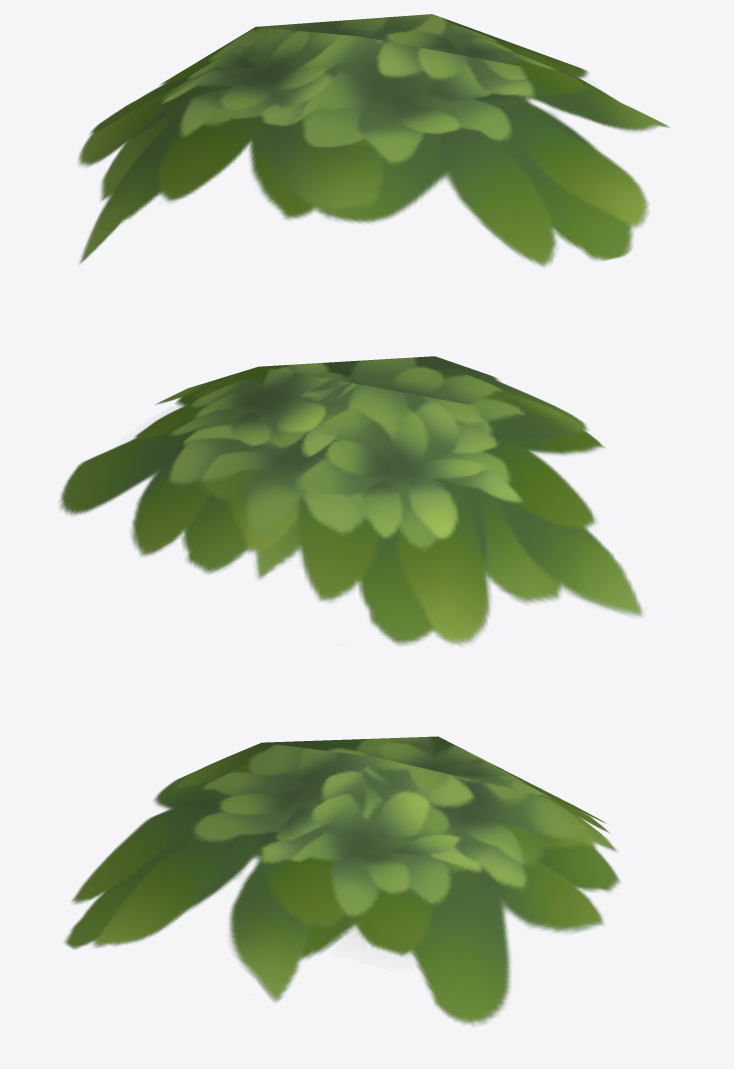
File: leafage4.glb
The picture shows the model from 3 angles, top to bottom: view 1: azimuth 30°, elevation 25°; view 2: azimuth 150°, elevation 25°; view 3: azimuth 270°, elevation 25°; orthographic projection.
Parts seen in each view (by area): view 1: Leafage4; view 2: Leafage4; view 3: Leafage4.
Boxes of the visible parts, x1,y1,x2,y2 form: Leafage4: (78, 14, 670, 267); Leafage4: (59, 356, 642, 645); Leafage4: (64, 736, 620, 1025).
Bounding box in the file's own units: 1.54 × 0.4259 × 1.54.
Materials: 1 (1 with a texture image).
